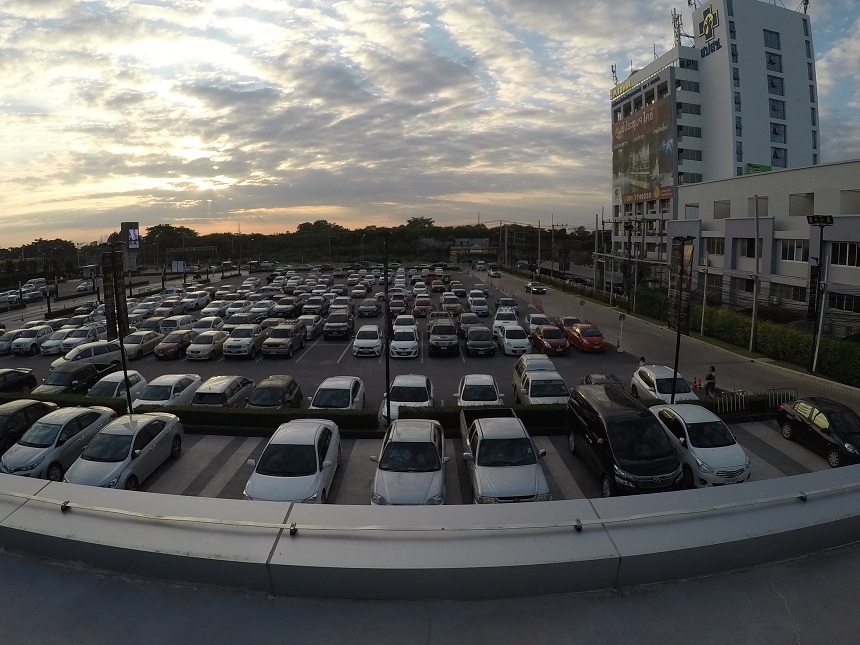busy: (250, 441, 333, 497), (462, 445, 547, 499), (373, 452, 451, 500), (604, 436, 675, 486), (88, 440, 161, 481), (685, 440, 753, 480), (18, 435, 73, 467), (811, 422, 860, 453), (316, 379, 368, 408), (518, 376, 568, 403), (449, 376, 499, 403), (257, 378, 303, 407), (641, 367, 686, 396), (145, 372, 190, 401), (386, 378, 435, 402), (202, 378, 246, 403), (349, 334, 384, 355), (52, 369, 86, 390), (1, 402, 27, 426), (105, 375, 136, 395), (586, 373, 620, 391), (468, 338, 499, 356), (576, 336, 609, 352), (154, 342, 186, 358), (427, 336, 457, 353), (538, 335, 568, 352), (505, 337, 531, 356), (262, 338, 290, 355), (123, 336, 148, 355), (3, 371, 32, 387), (226, 338, 255, 354), (63, 329, 89, 346), (193, 342, 220, 358), (16, 332, 37, 350), (392, 340, 414, 356), (94, 334, 116, 349), (43, 335, 60, 351), (1, 330, 11, 348)
